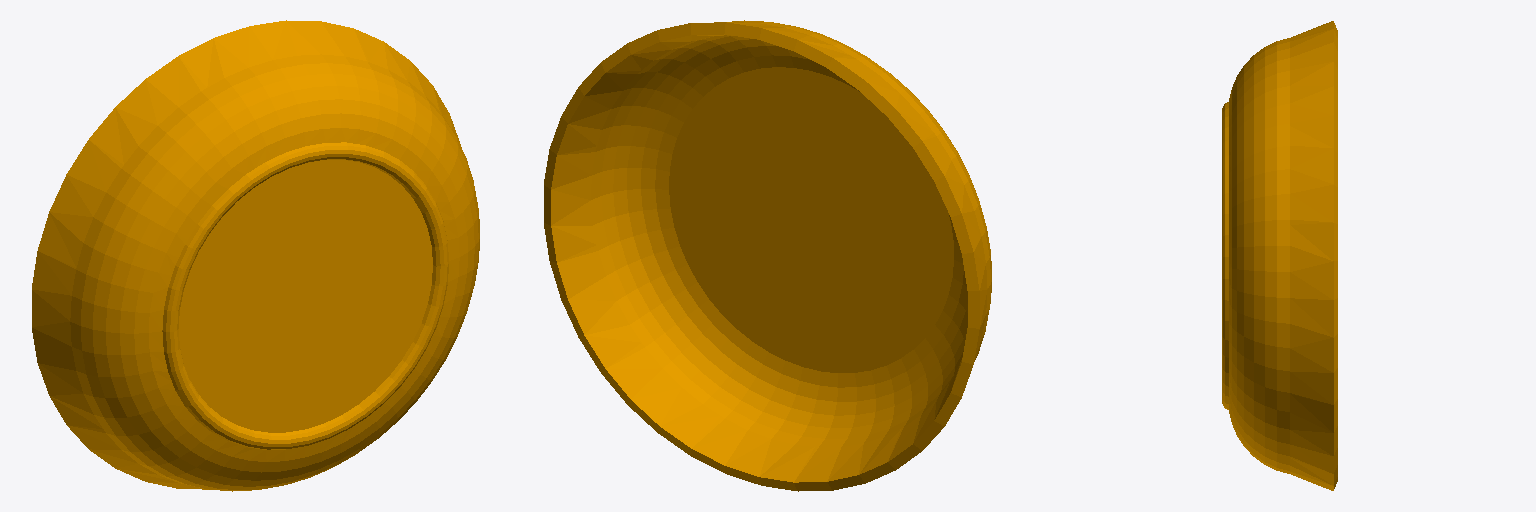
robot.urdf — bowl_6p25in:
<?xml version="1.0"?>
<robot name="bowl_6p25in">
  <link name="bowl_6p25in">
    <inertial>
      <mass value="0.140"/>
      <!-- Inertia values are approximate, assuming constant density
           cylinder. -->
      <inertia ixx="0.001" ixy="0" ixz="0" iyy="0.001" iyz="0" izz="0.0017"/>
    </inertial>
    <visual>
      <geometry>
        <mesh filename="meshes/visual/bowl_6p25in.obj" scale="0.001"/>
      </geometry>
    </visual>
    <collision>
      <geometry>
        <mesh filename="meshes/collision/bowl_6p25in.obj" scale="0.001"/>
      </geometry>
    </collision>
  </link>
</robot>

--- Render facts (derived) ---
3 views of the same robot in one strip: view 1: azimuth 30°, elevation 25°; view 2: azimuth 150°, elevation 25°; view 3: azimuth 270°, elevation 25° (orthographic).
Model bowl_6p25in with 1 links and 0 joints (none), rooted at bowl_6p25in, posed every joint at zero.
Visible links, largest first — view 1: bowl_6p25in; view 2: bowl_6p25in; view 3: bowl_6p25in.
Link boxes in pixels (x1,y1,x2,y2): bowl_6p25in: (32, 20, 479, 491); bowl_6p25in: (544, 20, 991, 491); bowl_6p25in: (1222, 21, 1337, 490).
Size in the robot's own frame: 0.167 by 0.0411 by 0.1676 metres.
1 mesh visuals loaded from 1 distinct referenced files (1 OBJ).